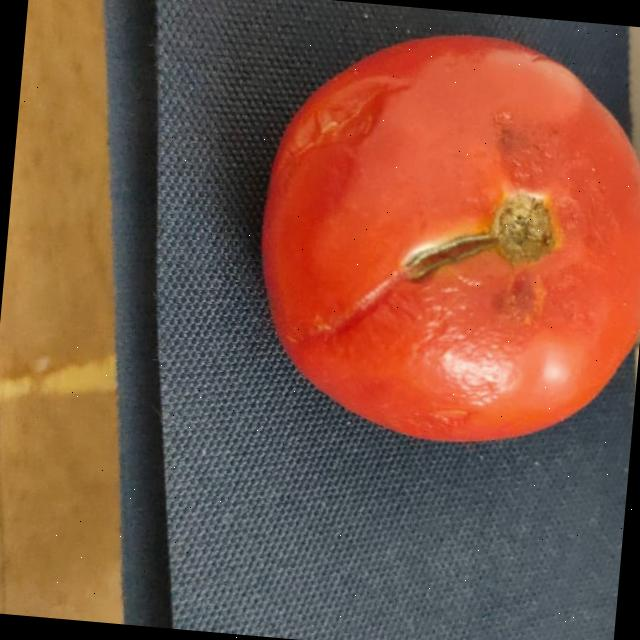tomato: (250, 23, 640, 456)
